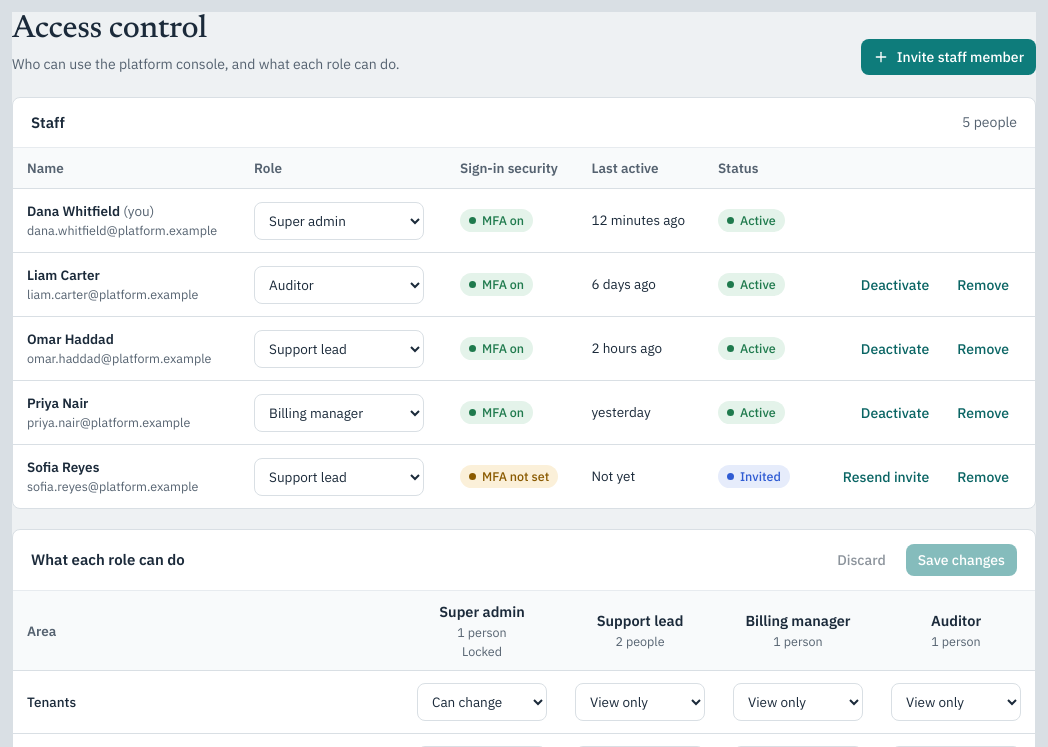
Test: row actions › changes a role at once when it takes nothing away, and says so
Expected: the column heading "Super admin 1 person Locked" is shown, [403,591,561,671]
Select "Support lead" in the dropdown named "Role for Liam Carter" at (339,285), box [254,266,424,304]
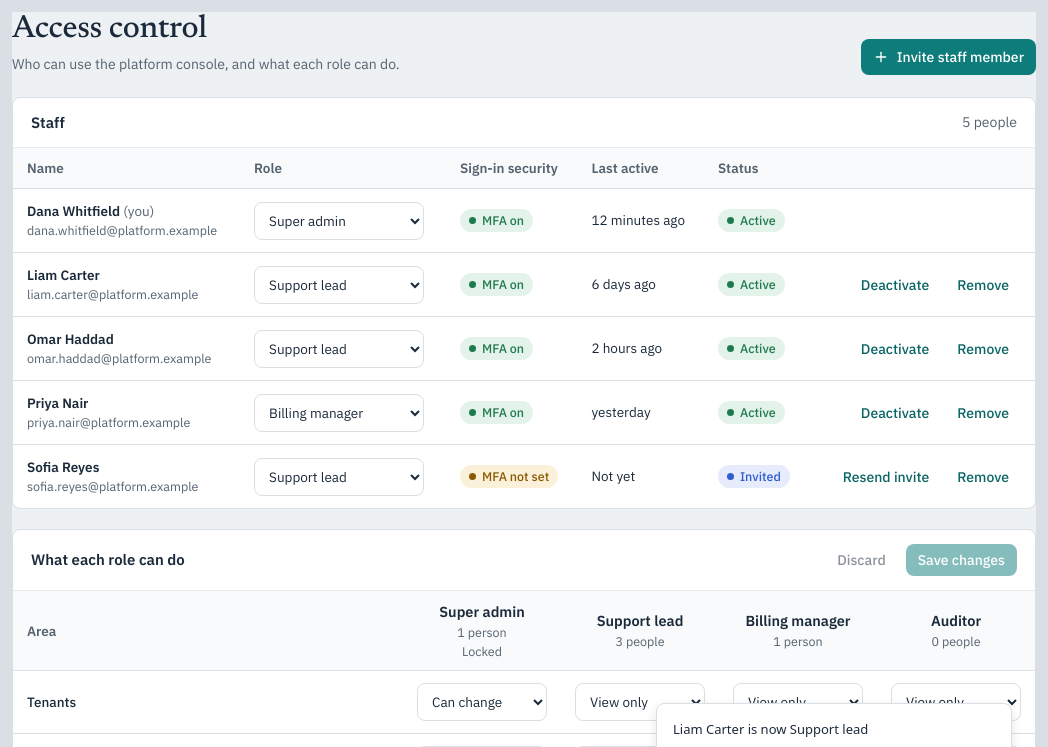
Result: the text "Liam Carter is now Support lead" is shown at [673,720,868,739]
